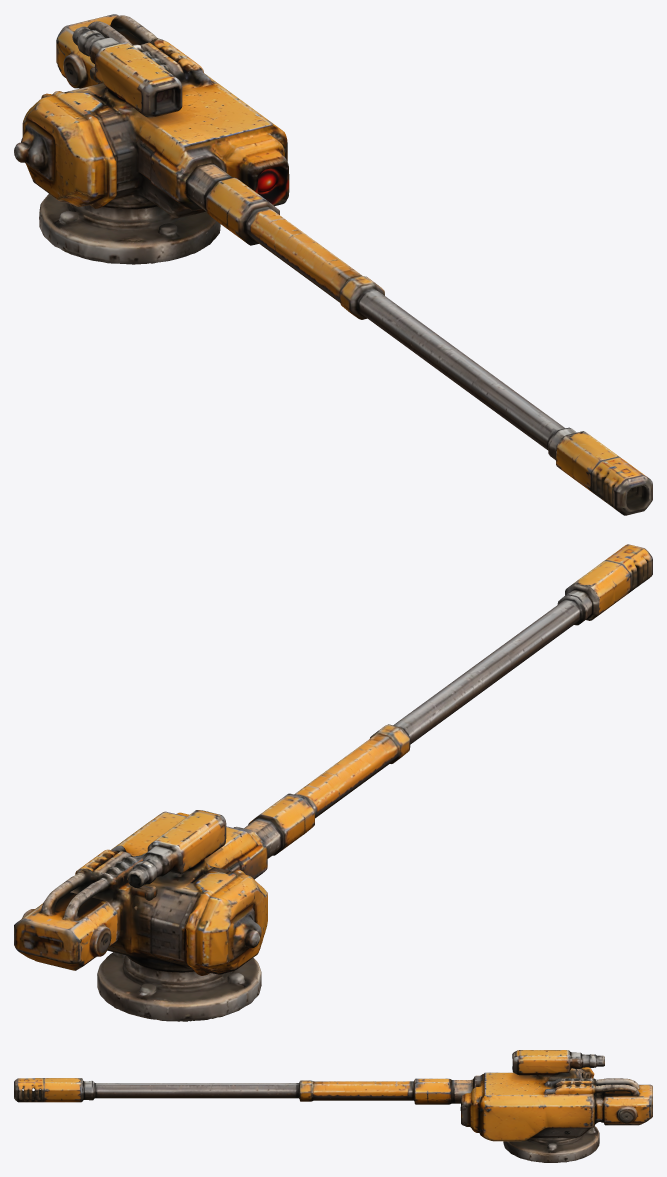
Rendered from NV_L2_Scout_Model.fbx.
3 views of the same model, one above another, from view 1: azimuth 30°, elevation 25°; view 2: azimuth 150°, elevation 25°; view 3: azimuth 270°, elevation 25° (orthographic). The views are drawn at different scales.
Parts seen in each view (by area): view 1: tripo_node_fc0fd920-e5df-4a82-a76a-0441195505a9, tripo_node_fc0fd920-e5df-4a82-a76a-0441195505a9.001; view 2: tripo_node_fc0fd920-e5df-4a82-a76a-0441195505a9, tripo_node_fc0fd920-e5df-4a82-a76a-0441195505a9.001; view 3: tripo_node_fc0fd920-e5df-4a82-a76a-0441195505a9, tripo_node_fc0fd920-e5df-4a82-a76a-0441195505a9.001.
Part boxes in pixels (<box>): tripo_node_fc0fd920-e5df-4a82-a76a-0441195505a9: <box>14,14,289,264</box>; tripo_node_fc0fd920-e5df-4a82-a76a-0441195505a9.001: <box>184,163,652,515</box>; tripo_node_fc0fd920-e5df-4a82-a76a-0441195505a9: <box>14,810,267,1021</box>; tripo_node_fc0fd920-e5df-4a82-a76a-0441195505a9.001: <box>244,544,652,858</box>; tripo_node_fc0fd920-e5df-4a82-a76a-0441195505a9: <box>460,1050,652,1162</box>; tripo_node_fc0fd920-e5df-4a82-a76a-0441195505a9.001: <box>14,1078,472,1104</box>.
Bounding box in the file's own units: 19.15 × 15.6 × 99.99.
1 material, 1 textured.
